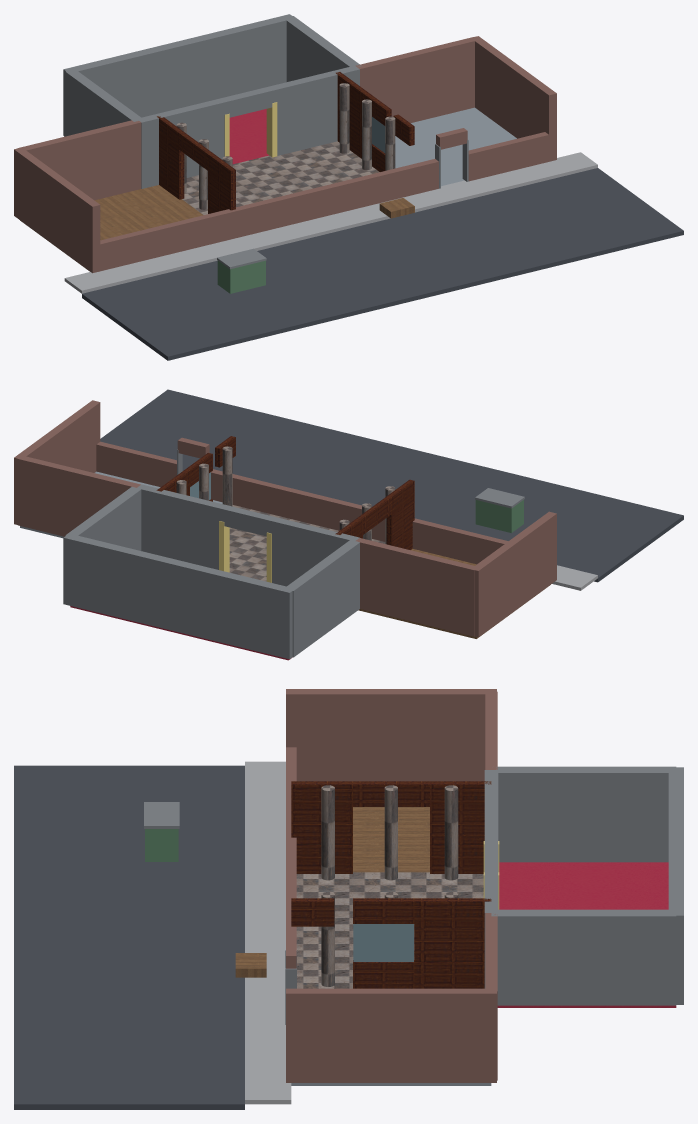
File: museum_building_84.glb
The picture shows the model from 3 angles, top to bottom: view 1: azimuth 30°, elevation 25°; view 2: azimuth 150°, elevation 25°; view 3: azimuth 270°, elevation 25°; orthographic projection. The views are drawn at different scales.
Parts seen in each view (by area): view 1: Floor_Alley_Road, Wall_Vault_North, Wall_South_Facade_Left, Sidewalk_Curb, Wall_North_Security, Wall_West_Facade, Wall_North_Relics, Wall_East_Facade, Floor_Great_Gallery, Wall_Vault_South_R, Floor_Security_Lair, Wall_Vault_South_L (+16 smaller); view 2: Floor_Alley_Road, Wall_Vault_North, Wall_North_Relics, Wall_South_Facade_Left, Wall_West_Facade, Wall_North_Security, Wall_Vault_South_R, Wall_Vault_West, Wall_East_Facade, Wall_Vault_South_L, Wall_Vault_East, Wall_South_Facade_Right (+12 smaller); view 3: Floor_Alley_Road, Wall_East_Facade, Wall_West_Facade, Wall_Vault_East, Wall_Vault_West, Sidewalk_Curb, Floor_Vault, Floor_Great_Gallery, Wall_Security_North, Wall_Gallery_Relics_S, Floor_Relic_Wing, Wall_Gallery_Relics_N (+18 smaller).
Boxes of the visible parts, x1,y1,x2,y2 form: Floor_Alley_Road: (82,168,683,360); Wall_Vault_North: (63,14,294,136); Wall_South_Facade_Left: (96,159,438,272); Sidewalk_Curb: (64,152,597,293); Wall_North_Security: (355,37,477,123); Wall_West_Facade: (14,148,100,273); Wall_North_Relics: (18,120,141,200); Wall_East_Facade: (471,36,556,161); Floor_Great_Gallery: (182,141,379,214); Wall_Vault_South_R: (270,65,359,155); Floor_Security_Lair: (395,107,516,186); Wall_Vault_South_L: (137,98,226,188); Floor_Alley_Road: (100,389,683,582); Wall_Vault_North: (63,535,294,659); Wall_North_Relics: (356,538,478,636); Wall_South_Facade_Left: (211,469,508,564); Wall_West_Facade: (474,511,556,637); Wall_North_Security: (17,455,140,536); Wall_Vault_South_R: (137,484,226,569); Wall_Vault_West: (284,538,359,657); Wall_East_Facade: (14,400,100,524); Wall_Vault_South_L: (269,517,359,586); Wall_Vault_East: (65,486,142,550); Wall_South_Facade_Right: (96,441,176,487); Floor_Alley_Road: (14,765,244,1109); Wall_East_Facade: (286,988,496,1082); Wall_West_Facade: (286,689,496,781); Wall_Vault_East: (491,909,676,1005); Wall_Vault_West: (491,766,675,862); Sidewalk_Curb: (245,761,291,1104); Floor_Vault: (497,862,676,1007); Floor_Great_Gallery: (296,872,483,988); Wall_Security_North: (414,898,491,988); Wall_Gallery_Relics_S: (291,781,352,873); Floor_Relic_Wing: (353,807,429,872); Wall_Gallery_Relics_N: (430,781,491,873).
Bounding box in the file's own units: 26 × 3.55 × 21.75.
12 materials, 4 textured.
